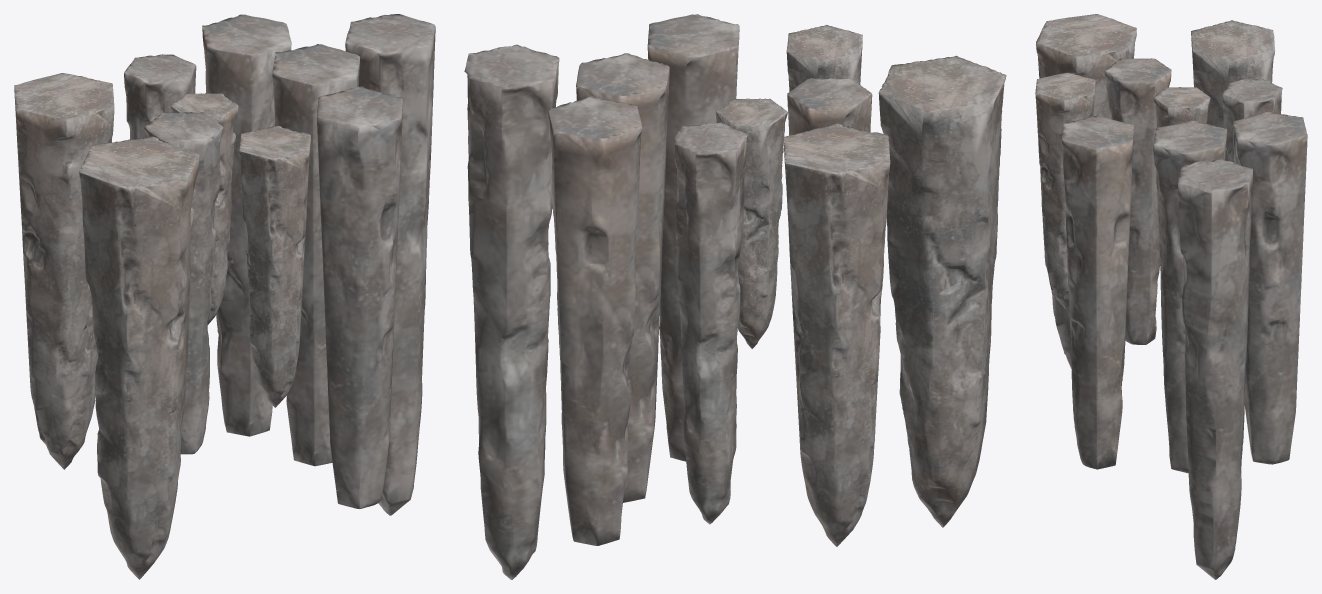
The model's file is SM_stalactic_07.glb.
3 views of the same model, side by side, from view 1: azimuth 30°, elevation 25°; view 2: azimuth 150°, elevation 25°; view 3: azimuth 270°, elevation 25° (orthographic). The views are drawn at different scales.
Parts seen in each view (by area): view 1: SM_stalactic_07; view 2: SM_stalactic_07; view 3: SM_stalactic_07.
Boxes of the visible parts, <box> form: SM_stalactic_07: <box>14,14,435,579</box>; SM_stalactic_07: <box>464,14,1006,579</box>; SM_stalactic_07: <box>1035,14,1307,579</box>.
Bounding box in the file's own units: 6 × 6.62 × 3.98.
1 material, 1 textured.
